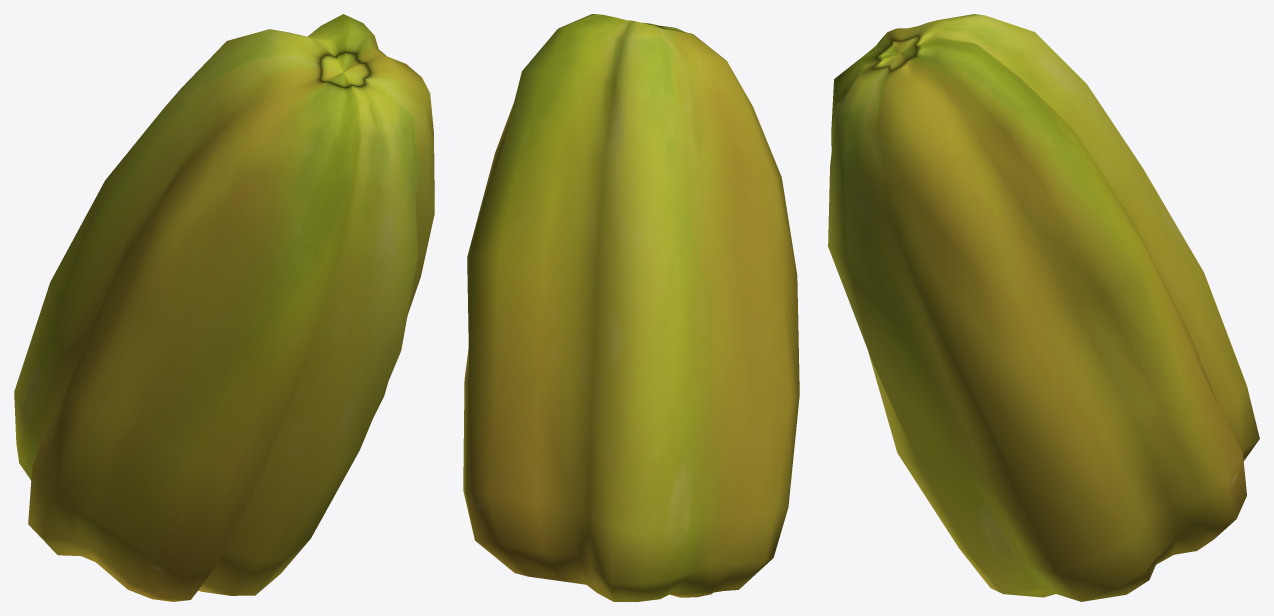
The model's file is VG07_9_fruitonly.dae.
3 renders of one model, left to right at view 1: azimuth 30°, elevation 25°; view 2: azimuth 150°, elevation 25°; view 3: azimuth 270°, elevation 25°, orthographic. The views are drawn at different scales.
Parts seen in each view (by area): view 1: VG07_018; view 2: VG07_018; view 3: VG07_018.
Part boxes in pixels (x1,y1,x2,y2): VG07_018: [14, 14, 434, 601]; VG07_018: [463, 14, 799, 601]; VG07_018: [828, 14, 1259, 601].
Bounding box in the file's own units: 0.0212 × 0.0228 × 0.0343.
1 material, 1 textured.
